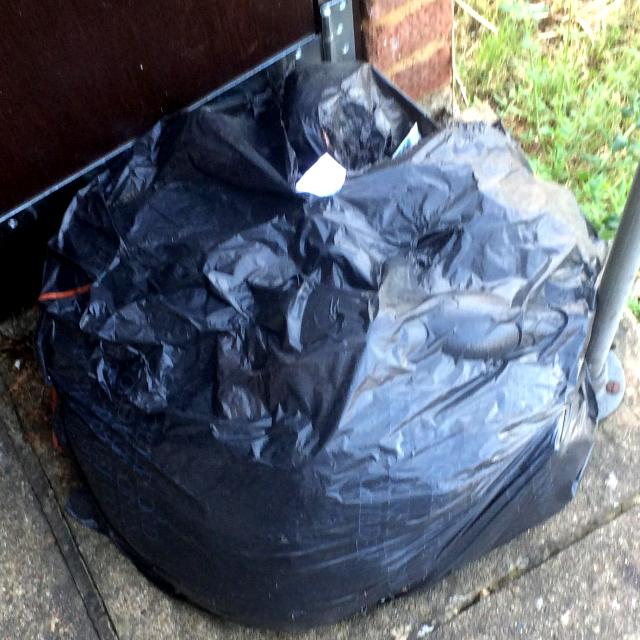Trash: (32, 51, 607, 631)
